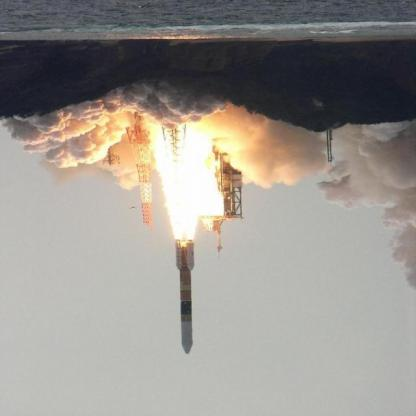MIL_TBM: (171, 240, 200, 355)
